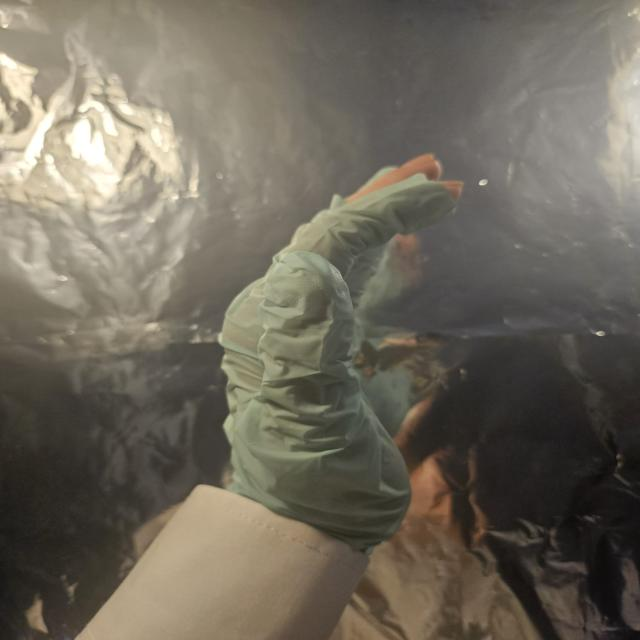gloves_damaged: (217, 152, 468, 551)
